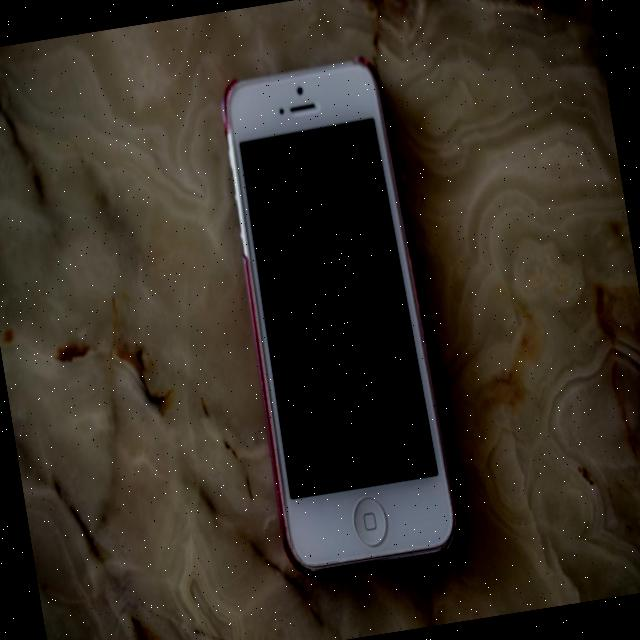Phone: (210, 51, 463, 584)
